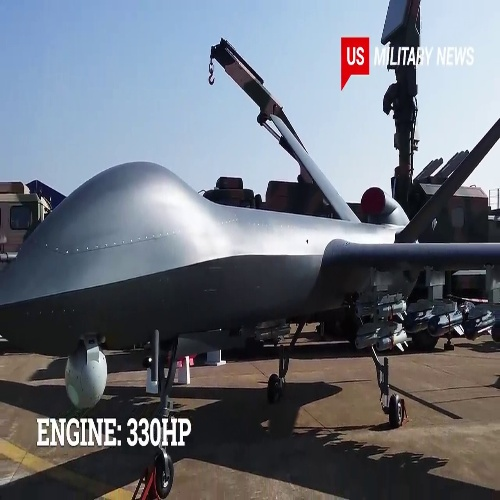uav331: (2, 112, 498, 429)
